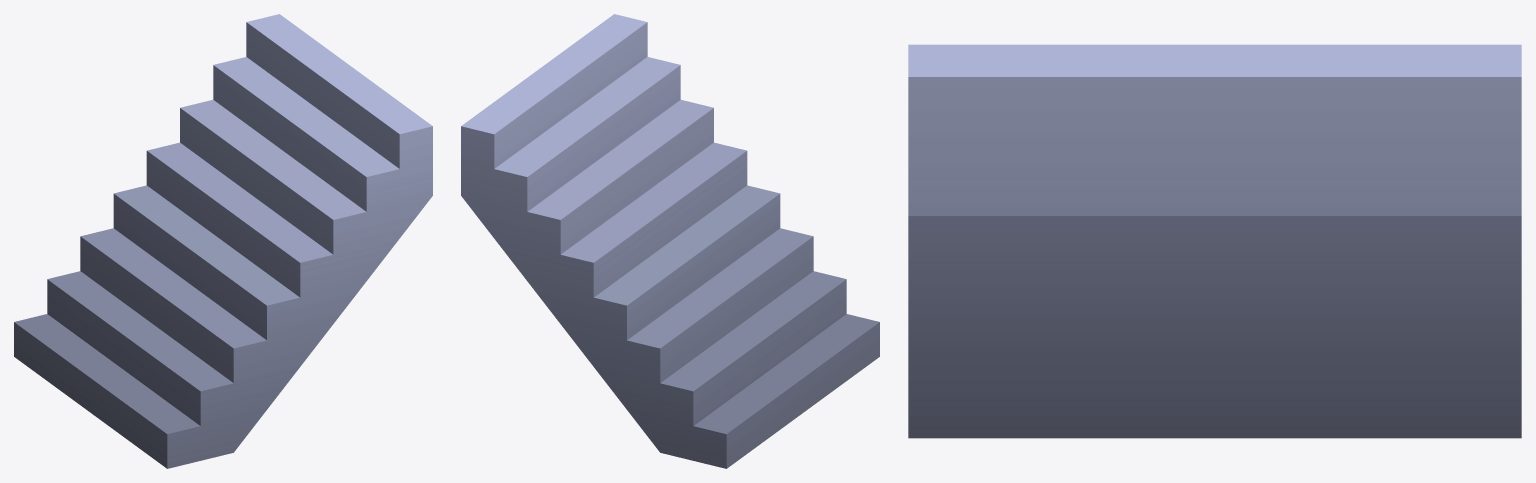
The model's file is stairs-diagonal-small.fbx.
The picture shows the model from 3 angles, left to right: view 1: azimuth 30°, elevation 25°; view 2: azimuth 150°, elevation 25°; view 3: azimuth 270°, elevation 25°; orthographic projection. The views are drawn at different scales.
Visible parts, largest first — view 1: stairs-diagonal-small; view 2: stairs-diagonal-small; view 3: stairs-diagonal-small.
Part boxes in pixels (x1,y1,x2,y2): stairs-diagonal-small: (14, 14, 432, 468); stairs-diagonal-small: (461, 14, 879, 468); stairs-diagonal-small: (908, 44, 1521, 438).
Bounding box in the file's own units: 100 × 100 × 100.
